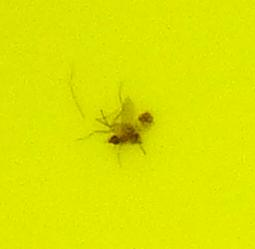Nematocera: (100, 100, 155, 149)
